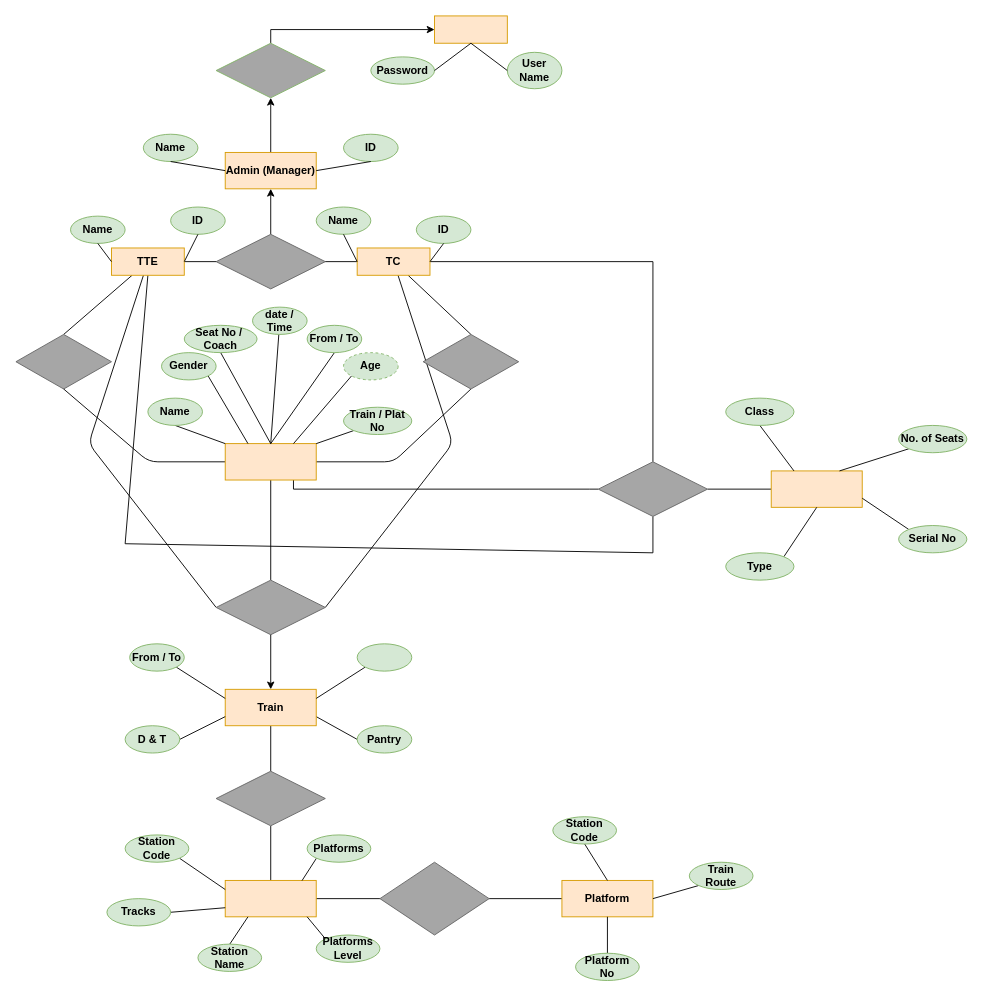
This 983x996 diagram has some shape labels left out. Here are the shapes that lost their labels. From the top down, the centre of each, then its label:
At [470,29]: "Login System".
At [270,70]: "Login".
At [270,261]: "Monitored By".
At [63,361]: "Checks For Ticket".
At [470,361]: "Fines Ticketless".
At [270,461]: "Passangers".
At [652,488]: "Reserved".
At [816,488]: "Coaches".
At [270,607]: "Travels Through".
At [384,657]: "Train No".
At [270,798]: "Stops At".
At [270,898]: "Station".
At [434,898]: "Access To Train Through".
